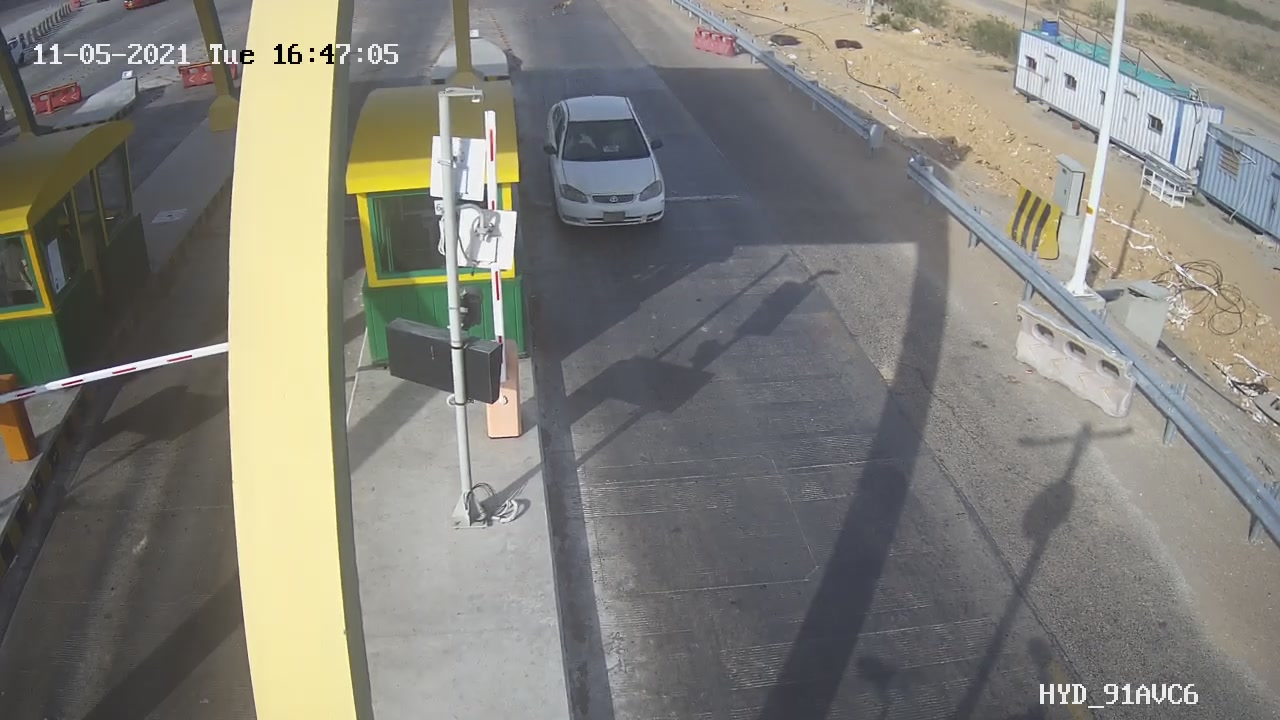F1: (529, 82, 700, 251)
